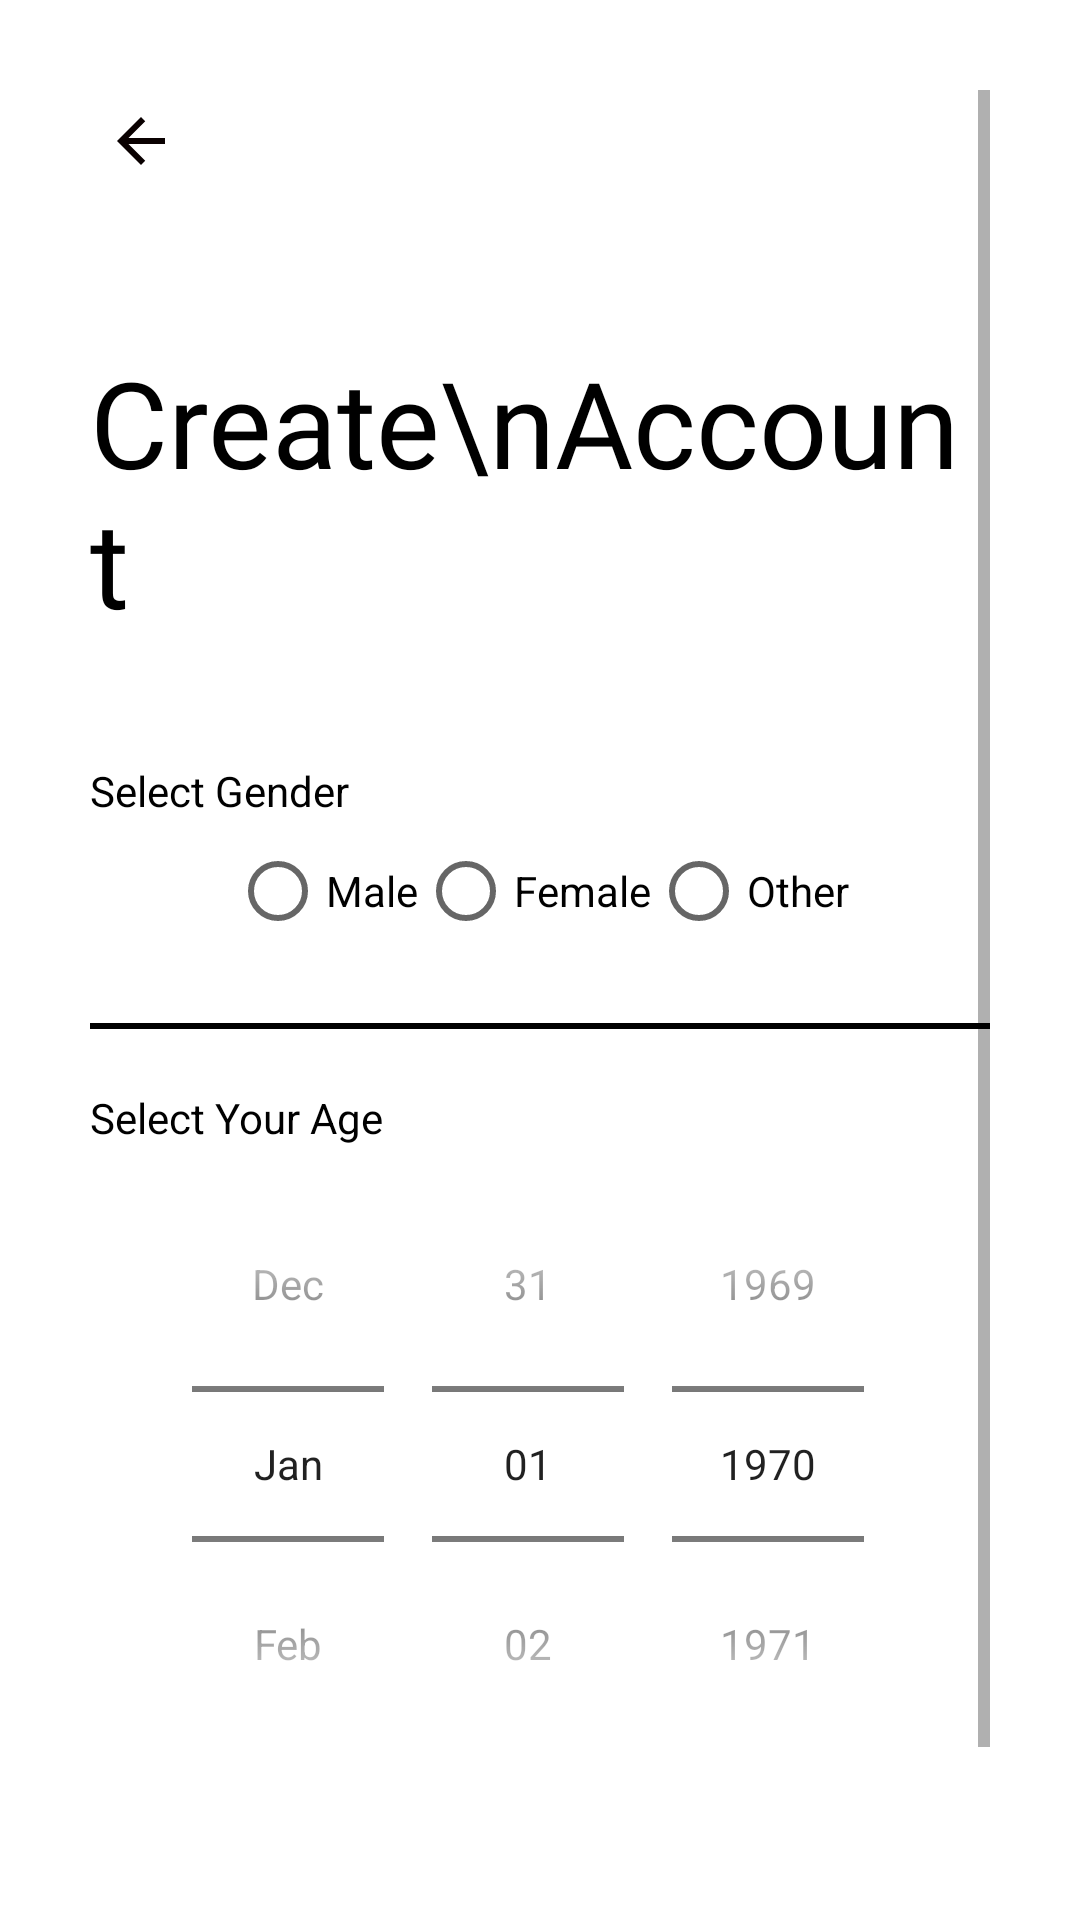

Icon bounding boxes for this 1080x1920 phone screenshot, format (x1, y1, x2, y2):
back: (117, 117, 165, 165)
